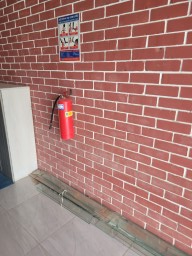fire_extinguisher: (73, 157, 105, 180)
